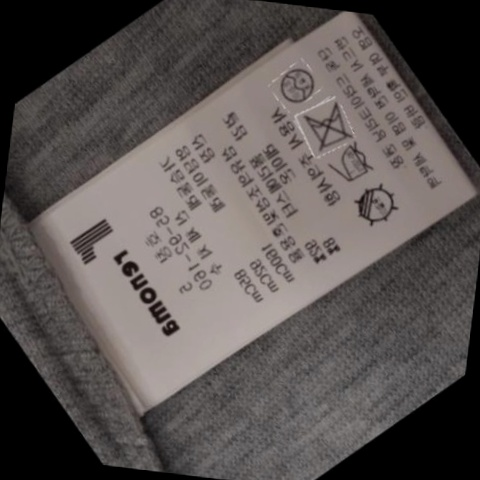DN_wash: (297, 102, 353, 151)
dry_clean_petrol_only: (274, 62, 318, 105)
iron_low: (328, 143, 377, 187)
line_dry_in_shade: (346, 183, 400, 228)
